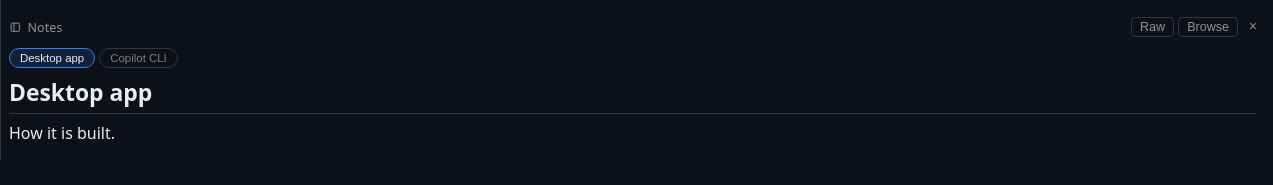
editing a note where it is read › shows the file when asked for it
Click the button "Raw": (1153,27) [1131, 17, 1174, 37]
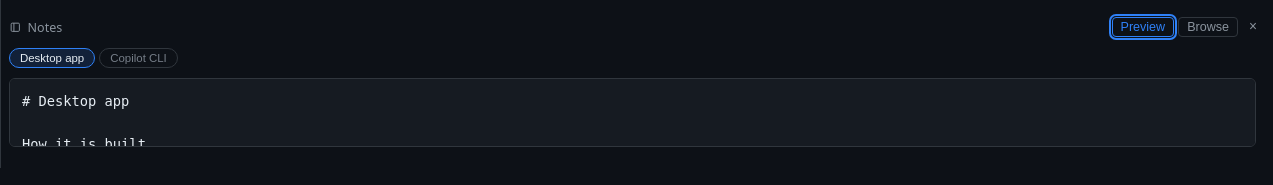
Now the text box named "Source of resources/guides/desktop.md" is shown, box [9, 78, 1256, 146]
